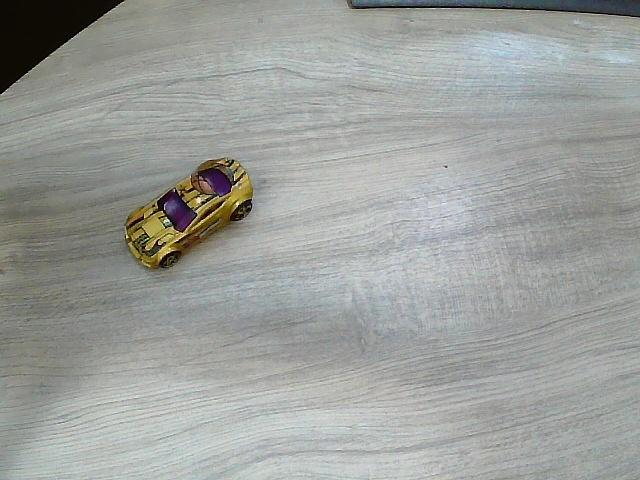Carro: (125, 158, 254, 270)
